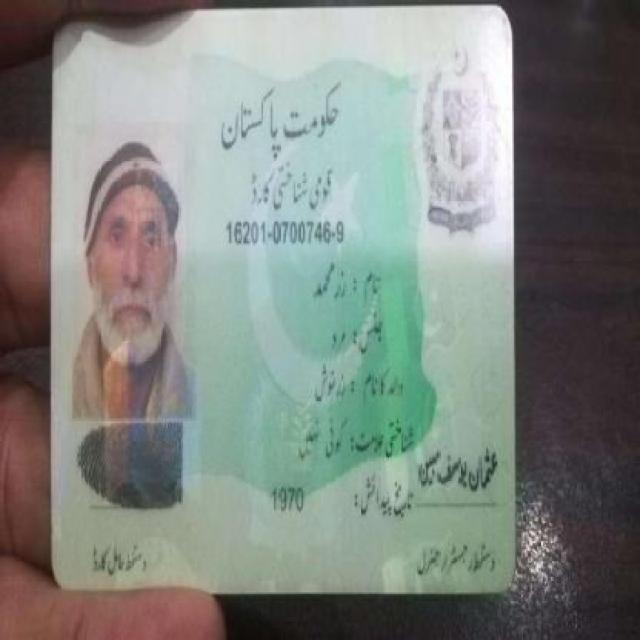Front: (43, 26, 526, 606)
